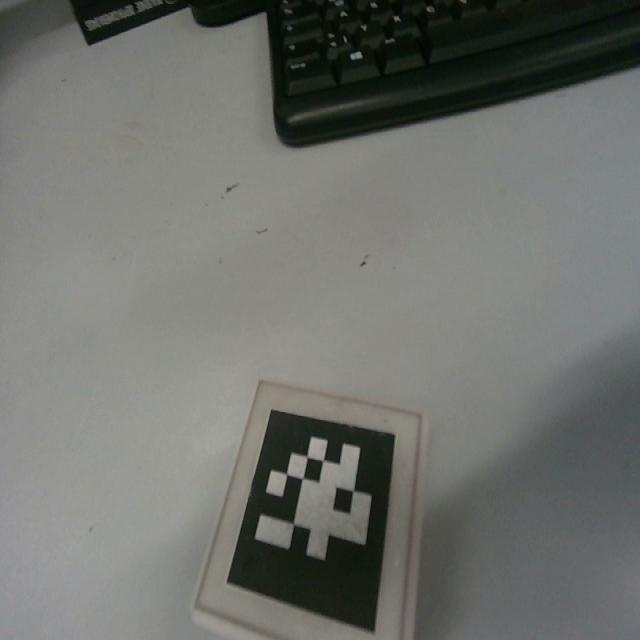Cube: (190, 377, 428, 639)
